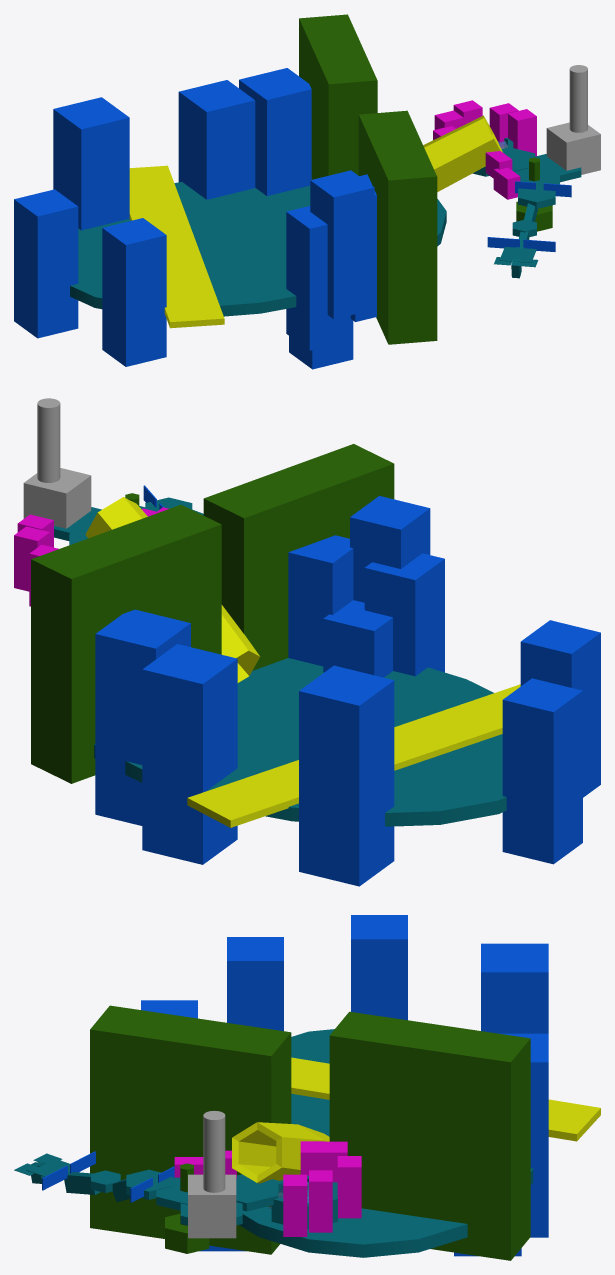
File: level3.fbx
3 views of the same model, one above another, from view 1: azimuth 30°, elevation 25°; view 2: azimuth 150°, elevation 25°; view 3: azimuth 270°, elevation 25° (orthographic). The views are drawn at different scales.
Parts seen in each view (by area): view 1: pCube32, floor, pCube31, pCube41, pCube42, pCube39, pCube38, pCube35, road, pCube37, pCube36, slide (+13 smaller); view 2: pCube31, pCube39, pCube32, floor, pCube38, pCube42, pCube37, road, pCube36, pCube41, pCube33, pCube35 (+5 smaller); view 3: pCube31, pCube32, floor, pCube39, pCube42, pCube41, slide, pCube38, road, factrory, pCylinder17, pCube27 (+12 smaller).
Part boxes in pixels (x1,y1,x2,y2): pCube32: (358, 110, 437, 344); floor: (70, 182, 446, 316); pCube31: (299, 14, 377, 179); pCube41: (102, 218, 166, 366); pCube42: (14, 189, 78, 338); pCube39: (53, 97, 129, 230); pCube38: (178, 80, 255, 199); pCube35: (310, 170, 374, 319); road: (129, 165, 224, 328); pCube37: (239, 68, 311, 195); pCube36: (286, 206, 350, 350); slide: (423, 115, 502, 191); pCube31: (31, 504, 221, 783); pCube39: (299, 665, 394, 886); pCube32: (203, 444, 394, 670); floor: (94, 658, 506, 826); pCube38: (142, 644, 237, 864); pCube42: (502, 678, 582, 864); pCube37: (95, 609, 190, 825); road: (187, 684, 520, 827); pCube36: (364, 553, 444, 676); pCube41: (520, 620, 600, 797); pCube33: (288, 535, 353, 666); pCube35: (350, 496, 430, 602); pCube31: (329, 1011, 530, 1260); pCube32: (90, 1005, 291, 1254); floor: (239, 1029, 533, 1257); pCube39: (481, 943, 548, 1033); pCube42: (351, 915, 407, 1020); pCube41: (227, 937, 283, 1030); slide: (232, 1122, 329, 1183); pCube38: (500, 1033, 548, 1237); road: (291, 1057, 600, 1141); factrory: (188, 1174, 236, 1238); pCylinder17: (203, 1110, 225, 1192); pCube27: (283, 1174, 307, 1236).
Bounding box in the file's own units: 1249 × 546 × 1059.
